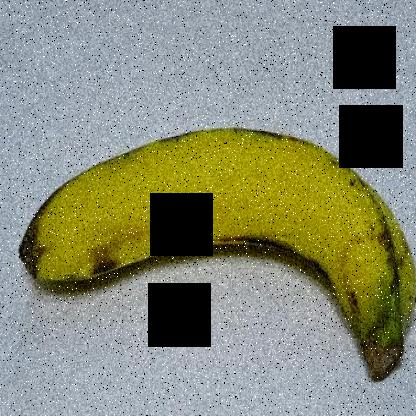freshripe: (3, 112, 415, 377)
